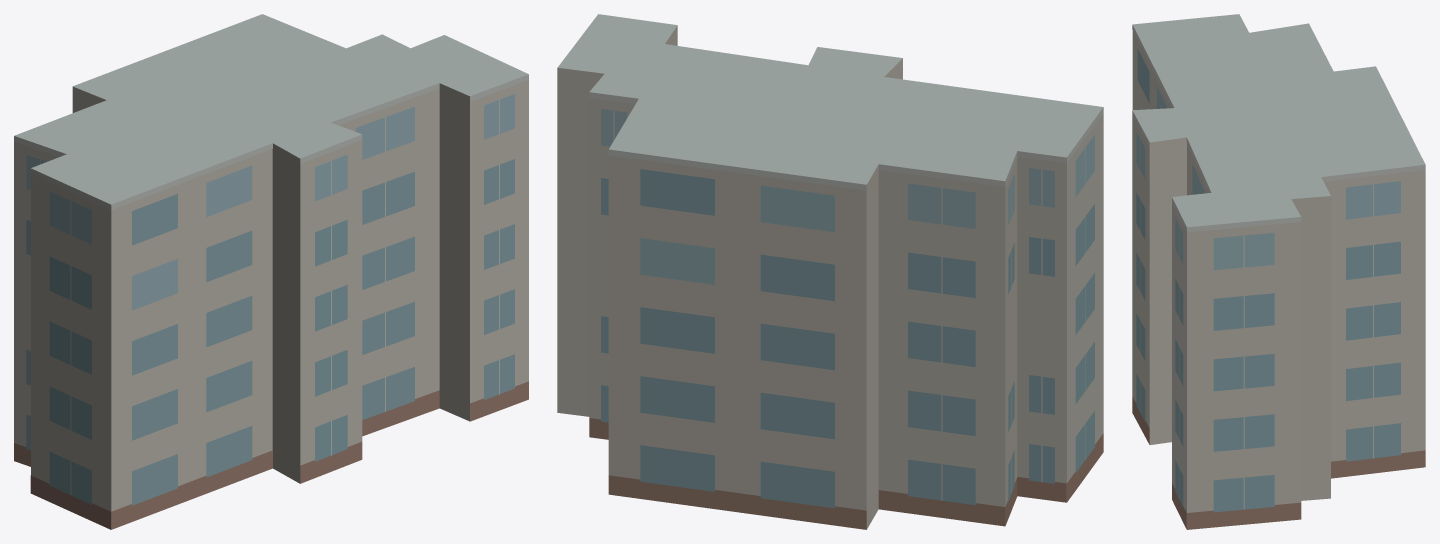
The model's file is survey-upis-32983029.glb.
3 renders of one model, left to right at view 1: azimuth 30°, elevation 25°; view 2: azimuth 150°, elevation 25°; view 3: azimuth 270°, elevation 25°, orthographic. The views are drawn at different scales.
Parts seen in each view (by area): view 1: survey-upis-32983029.tmp; view 2: survey-upis-32983029.tmp; view 3: survey-upis-32983029.tmp.
Boxes of the visible parts, x1,y1,x2,y2 form: survey-upis-32983029.tmp: [14, 14, 528, 529]; survey-upis-32983029.tmp: [557, 14, 1103, 529]; survey-upis-32983029.tmp: [1132, 14, 1425, 529].
Bounding box in the file's own units: 21.78 × 14.4 × 12.66.
